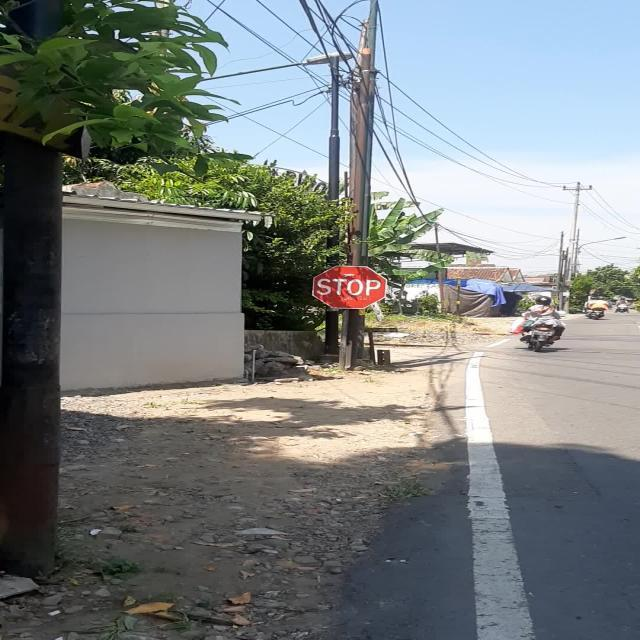Berhenti: (312, 266, 388, 310)
